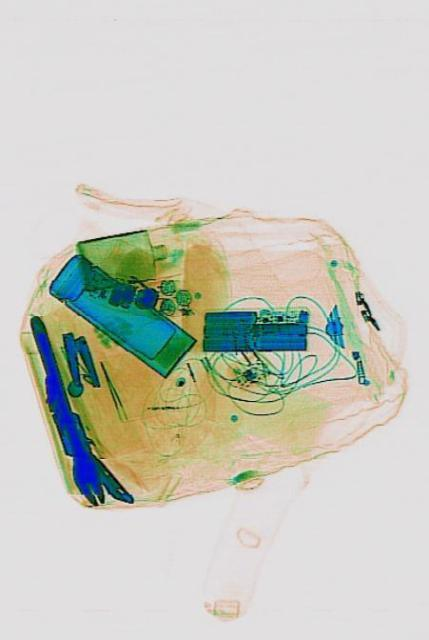Wrench: (19, 310, 107, 512)
